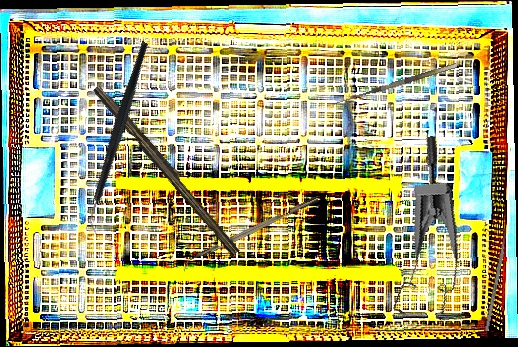Chopper: (32, 40, 208, 237), (178, 195, 323, 273)
Hook Surgical: (332, 62, 460, 113)
Pusher: (484, 222, 510, 332)
Scalpel Handle: (89, 82, 246, 257)
Speculum: (350, 134, 487, 334)
